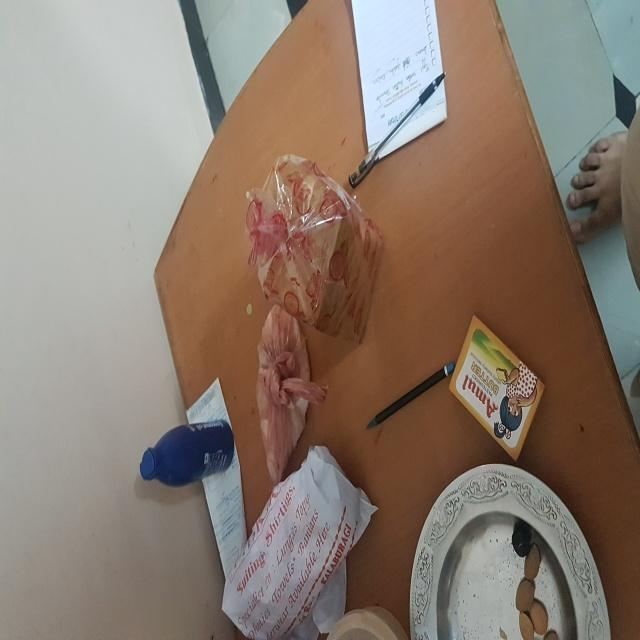butter: (450, 315, 545, 455)
